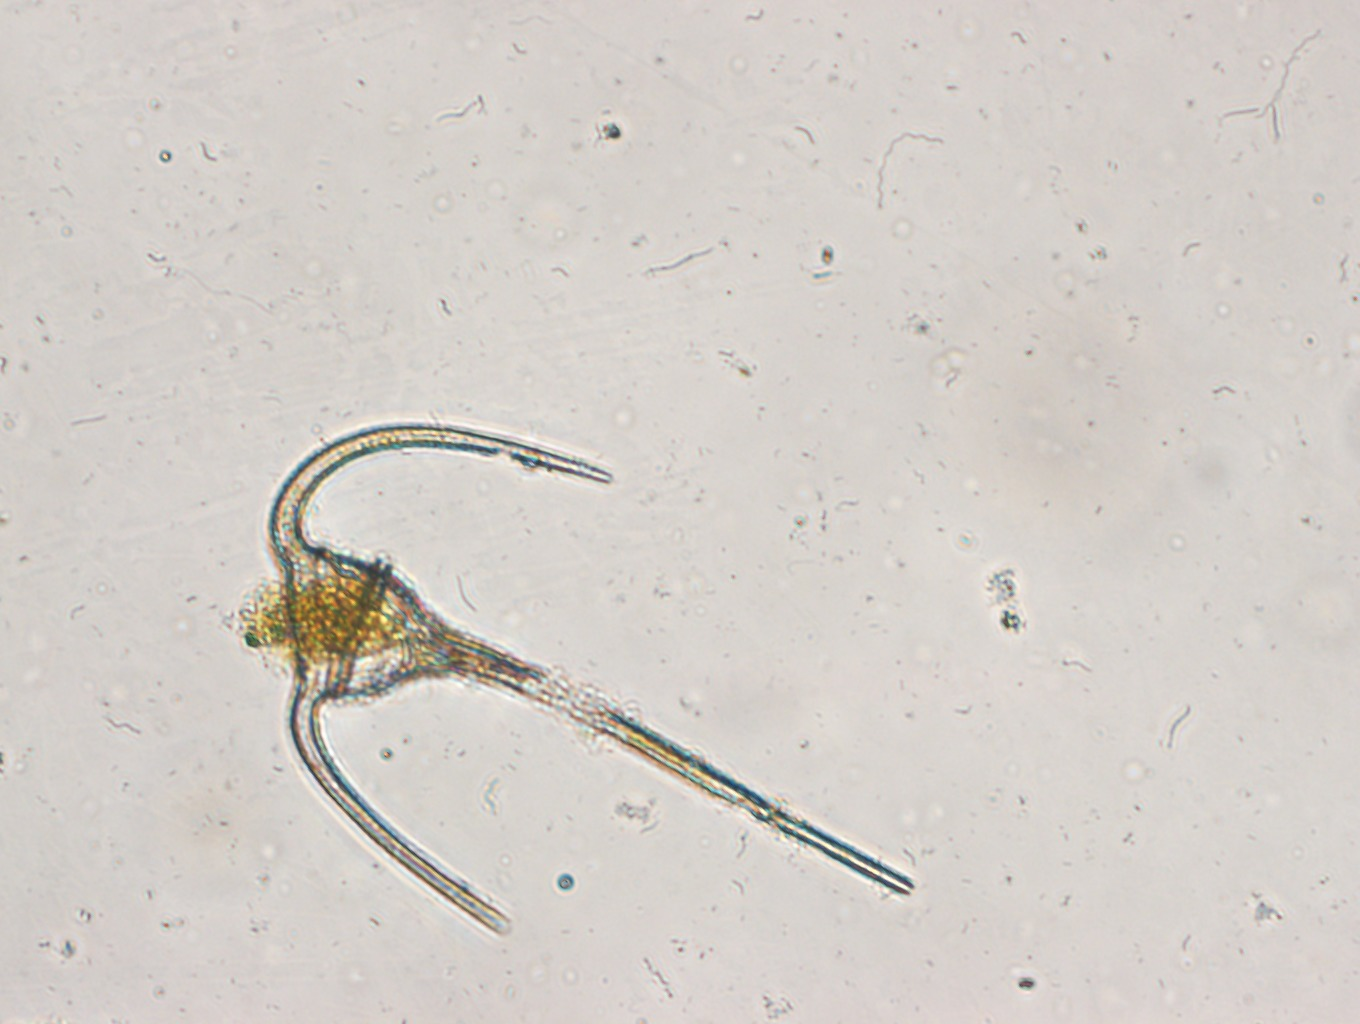ceratium trichoceros: (262, 392, 924, 943)
